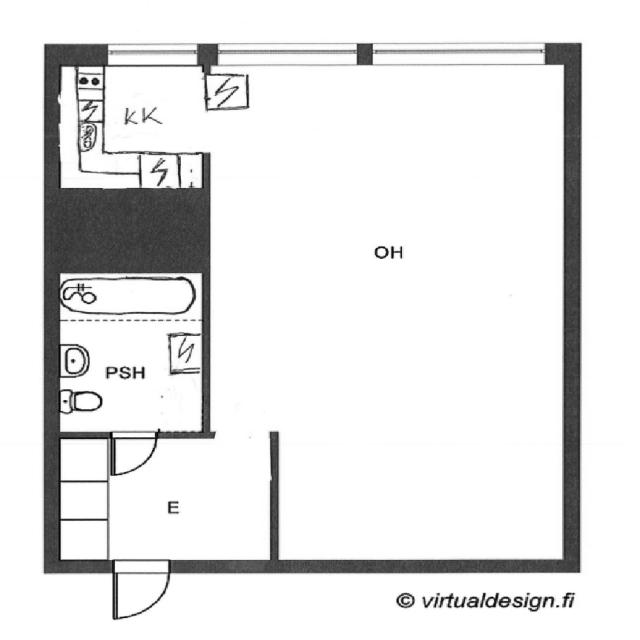door: (105, 558, 176, 621), (104, 426, 160, 478)
window: (49, 432, 277, 567), (52, 264, 208, 438), (374, 45, 549, 73), (208, 38, 362, 68), (97, 35, 207, 66)
zone: (209, 59, 573, 566), (49, 436, 275, 566), (52, 271, 208, 437), (60, 59, 214, 190)
